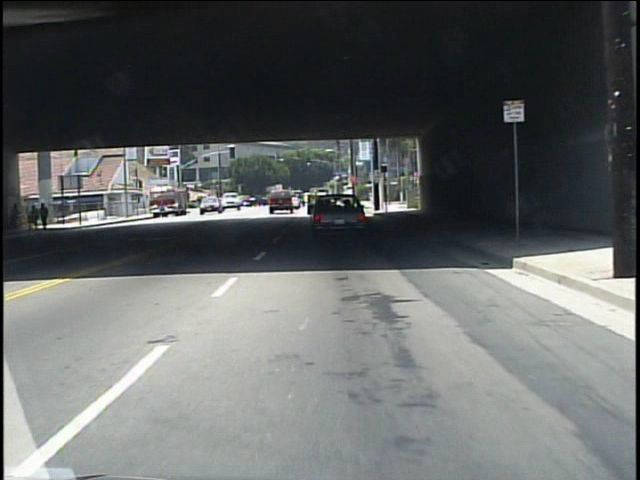person: (27, 203, 40, 232), (12, 202, 23, 234), (40, 202, 51, 232)
